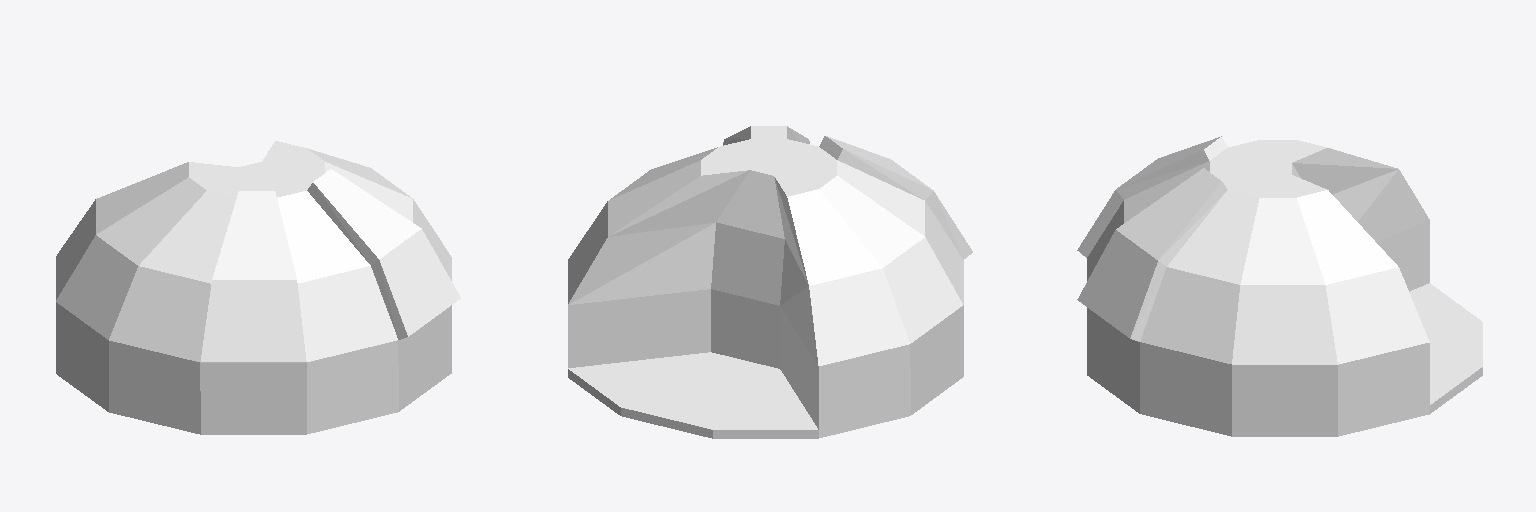
The model's file is Turret.obj.
3 views of the same model, side by side, from view 1: azimuth 30°, elevation 25°; view 2: azimuth 150°, elevation 25°; view 3: azimuth 270°, elevation 25° (orthographic).
Parts seen in each view (by area): view 1: cylinder2_sep37; view 2: cylinder2_sep37; view 3: cylinder2_sep37.
Boxes of the visible parts, <box> form: cylinder2_sep37: <box>56,141,460,434</box>; cylinder2_sep37: <box>568,126,972,438</box>; cylinder2_sep37: <box>1077,136,1482,436</box>.
Bounding box in the file's own units: 28.41 × 15.4 × 29.11.